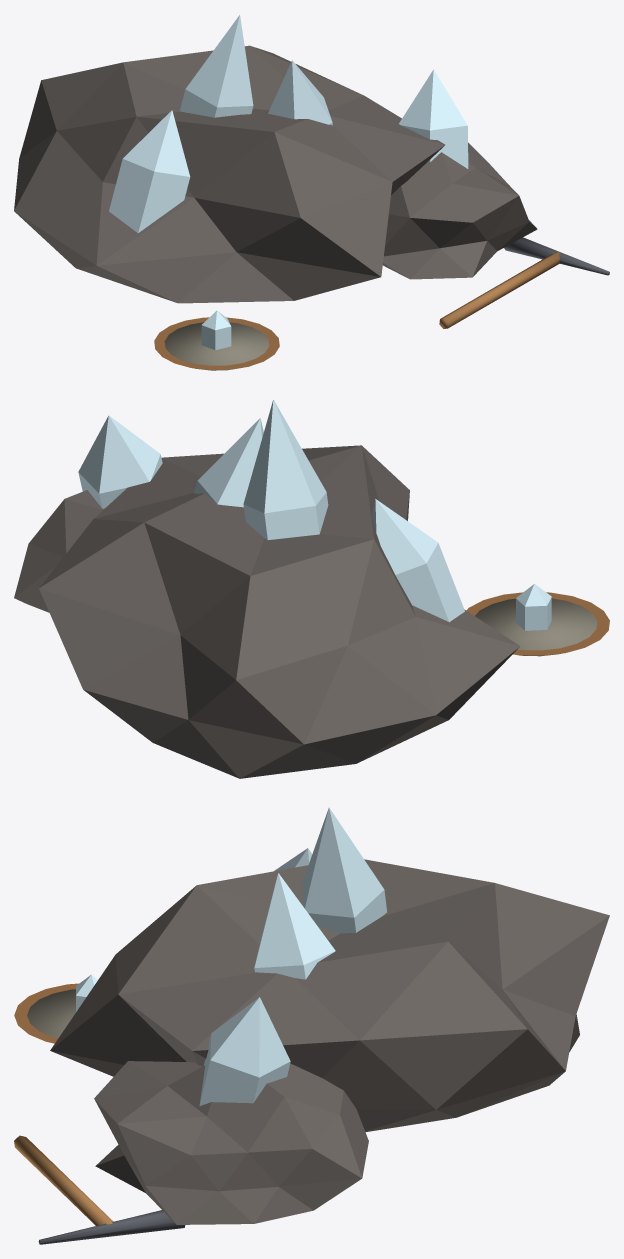
File: resource_diamonds.fbx
3 views of the same model, one above another, from view 1: azimuth 30°, elevation 25°; view 2: azimuth 150°, elevation 25°; view 3: azimuth 270°, elevation 25° (orthographic). The views are drawn at different scales.
Parts seen in each view (by area): view 1: resource_diamonds_rock#6a6460_00, resource_diamonds_diamond_01, resource_diamonds_sieve_05, resource_diamonds_wood#b08050.001_02, resource_diamonds_wood#9a6a40_04, resource_diamonds_pickiron.001_03; view 2: resource_diamonds_rock#6a6460_00, resource_diamonds_diamond_01, resource_diamonds_sieve_05, resource_diamonds_wood#9a6a40_04; view 3: resource_diamonds_rock#6a6460_00, resource_diamonds_diamond_01, resource_diamonds_wood#b08050.001_02, resource_diamonds_pickiron.001_03, resource_diamonds_sieve_05, resource_diamonds_wood#9a6a40_04.
Boxes of the visible parts, x1,y1,x2,y2 form: resource_diamonds_rock#6a6460_00: [14, 45, 537, 303]; resource_diamonds_diamond_01: [109, 15, 468, 350]; resource_diamonds_sieve_05: [164, 322, 269, 370]; resource_diamonds_wood#b08050.001_02: [439, 252, 560, 328]; resource_diamonds_wood#9a6a40_04: [154, 317, 279, 370]; resource_diamonds_pickiron.001_03: [504, 237, 609, 275]; resource_diamonds_rock#6a6460_00: [14, 445, 520, 778]; resource_diamonds_diamond_01: [78, 399, 551, 630]; resource_diamonds_sieve_05: [475, 598, 597, 656]; resource_diamonds_wood#9a6a40_04: [466, 592, 609, 655]; resource_diamonds_rock#6a6460_00: [50, 859, 609, 1224]; resource_diamonds_diamond_01: [76, 807, 386, 1106]; resource_diamonds_wood#b08050.001_02: [14, 1135, 113, 1225]; resource_diamonds_pickiron.001_03: [38, 1210, 185, 1244]; resource_diamonds_sieve_05: [27, 989, 75, 1038]; resource_diamonds_wood#9a6a40_04: [14, 983, 78, 1043].
Size of the model in its own units: 94.89 by 50.65 by 92.55.
